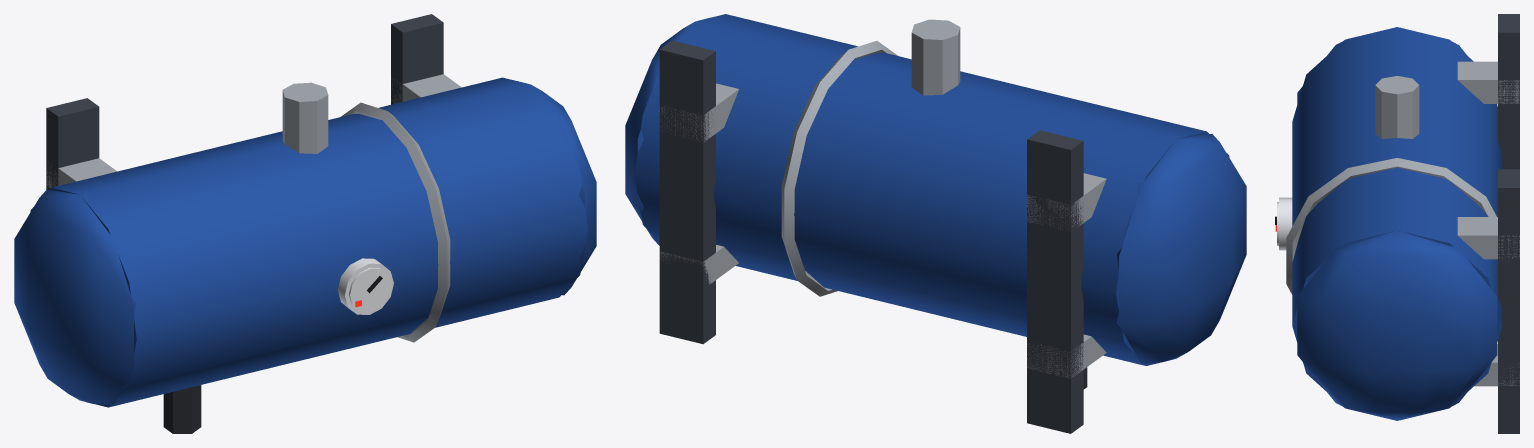
File: tank_expansion_tank.glb
The picture shows the model from 3 angles, left to right: view 1: azimuth 30°, elevation 25°; view 2: azimuth 150°, elevation 25°; view 3: azimuth 270°, elevation 25°; orthographic projection. The views are drawn at different scales.
Parts seen in each view (by area): view 1: tank_expansion_tank; view 2: tank_expansion_tank; view 3: tank_expansion_tank.
Boxes of the visible parts, bbox=[...] form: tank_expansion_tank: bbox=[14, 14, 596, 433]; tank_expansion_tank: bbox=[625, 14, 1246, 433]; tank_expansion_tank: bbox=[1275, 14, 1519, 433].
Size of the model in its own units: 1.27 by 0.71 by 0.559.
